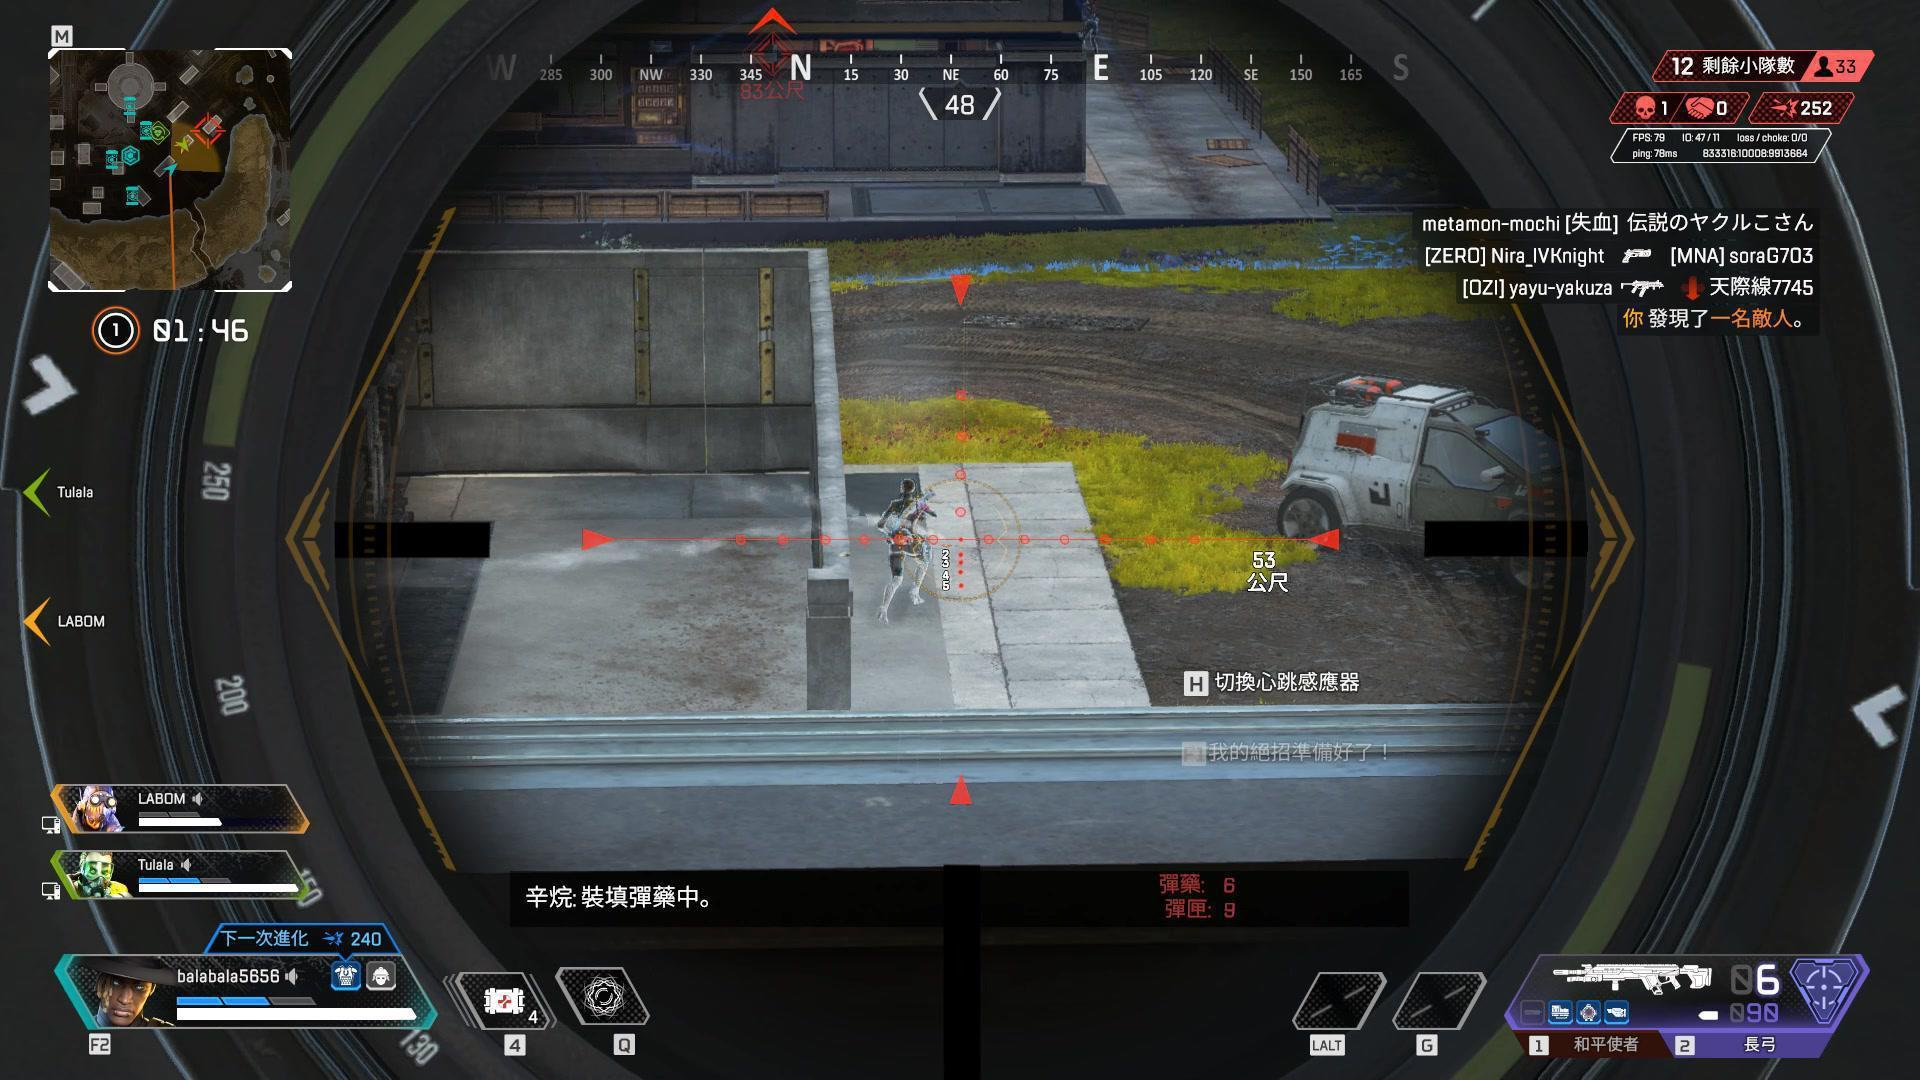avatar: (878, 478, 930, 621)
